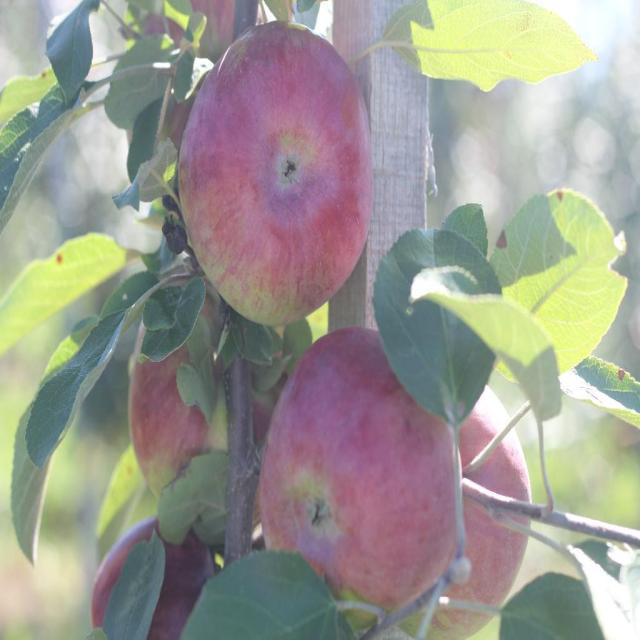Healty Apple: (257, 322, 459, 630), (178, 15, 372, 324), (127, 264, 298, 528), (405, 382, 532, 640), (88, 516, 217, 639)
